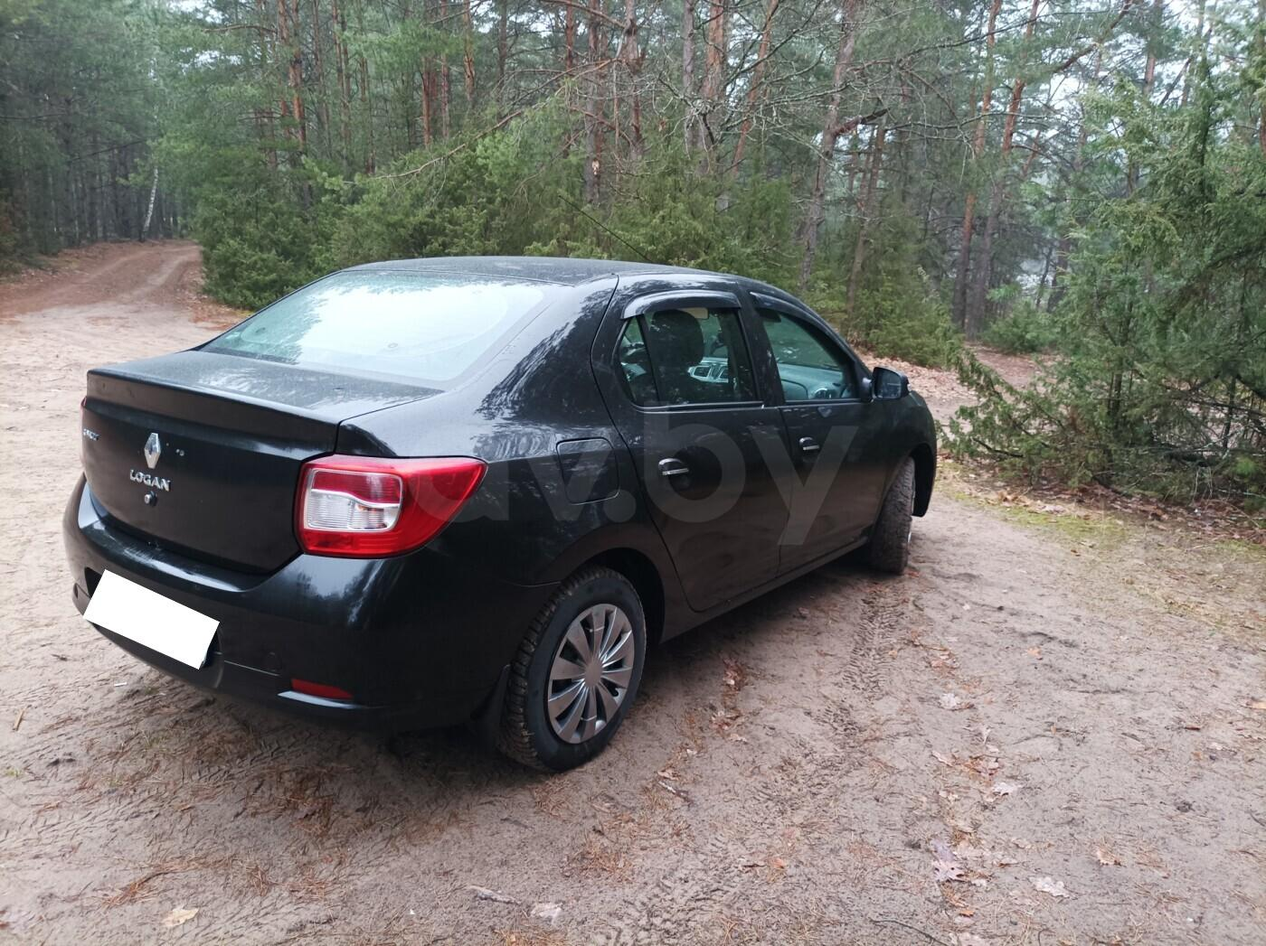Logan_2018: (62, 247, 947, 771)
